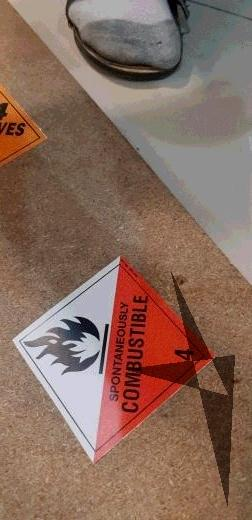spontaneously-combustible: (12, 254, 215, 465)
